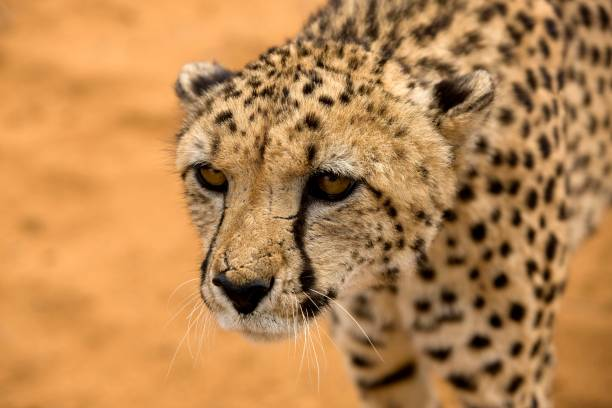cheetah: (148, 45, 509, 385)
